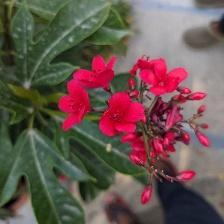jatropha: (101, 94, 147, 139), (141, 58, 189, 95)
